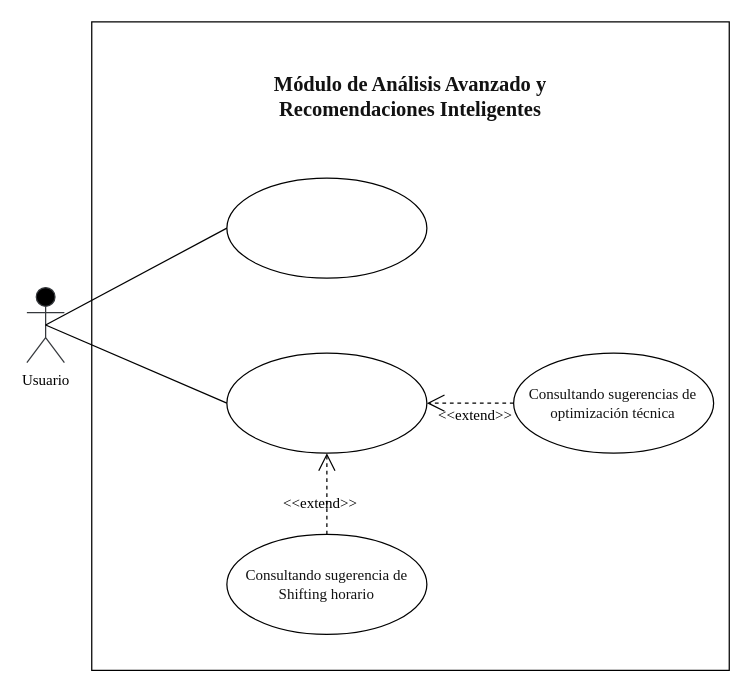
The diagram is 751 pixels wide and 693 high, and some of its shapes have lost their labels. The centre of each missing label's shape, as x and y in pixels:
Comparando modelos analíticamente: (x=326, y=227)
Proyectando capacidad (Capacity Planning): (x=326, y=402)
